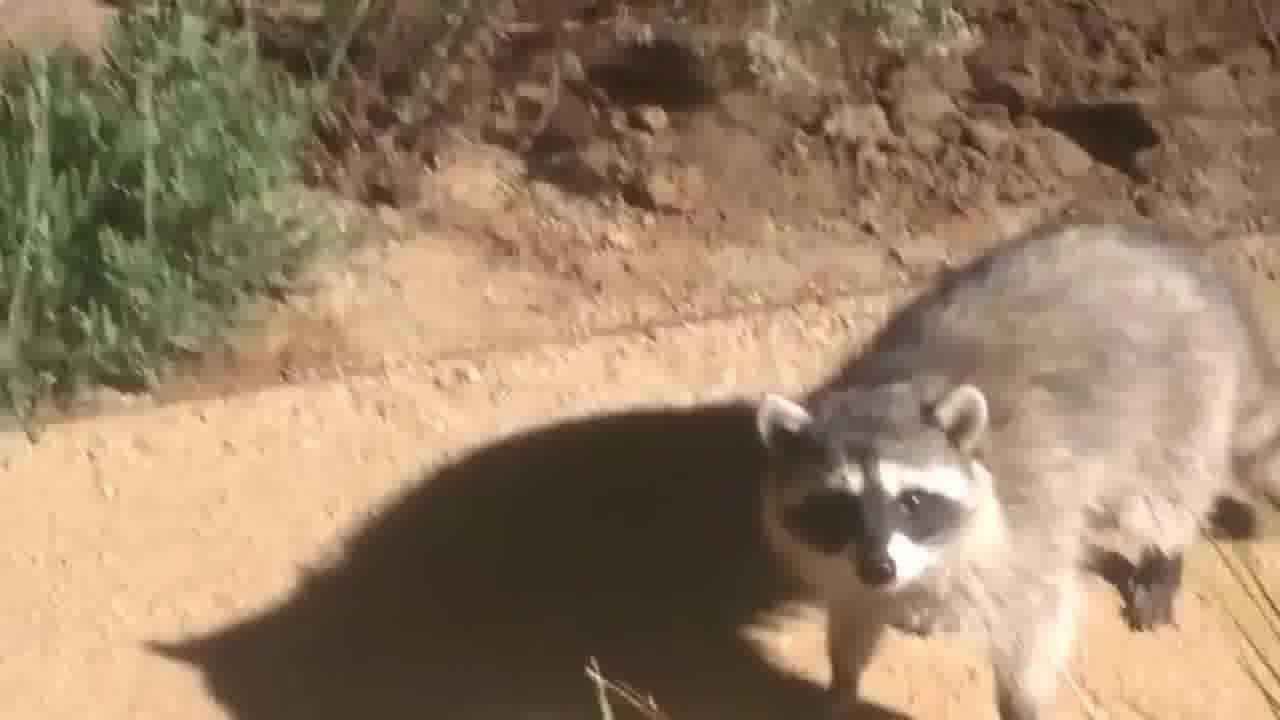raccoon: (746, 200, 1280, 720)
